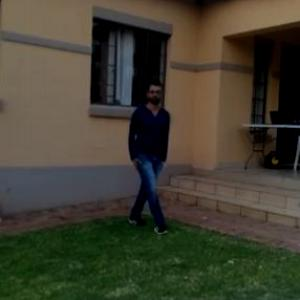follow: (118, 84, 167, 228)
